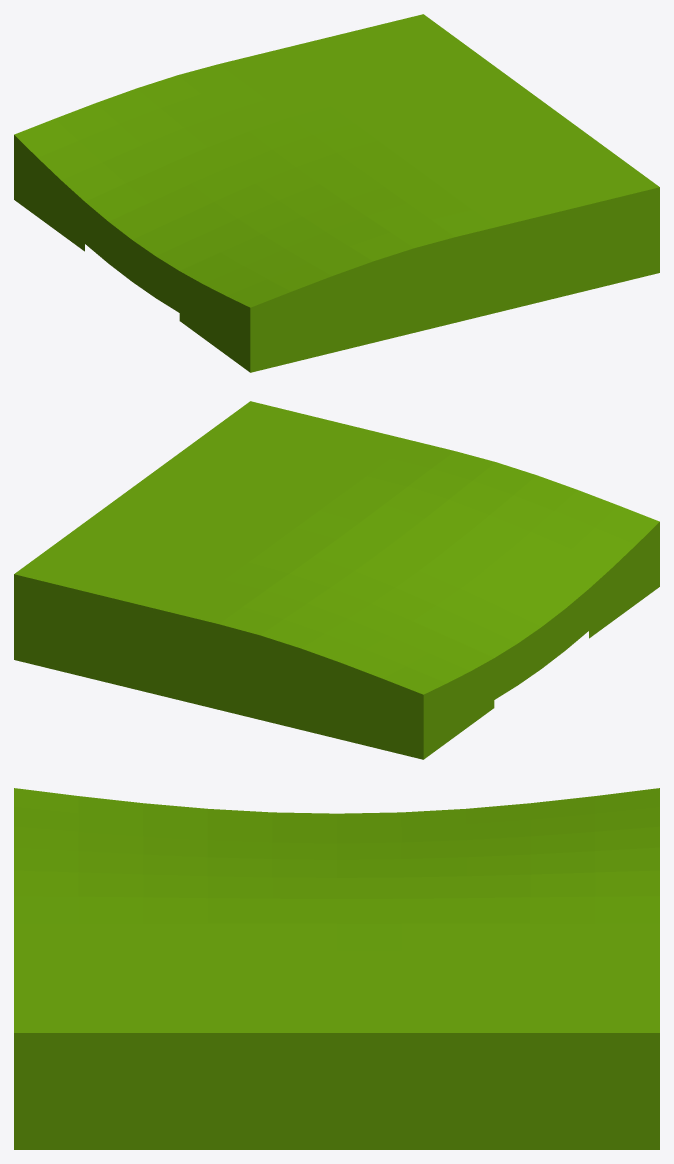
The model's file is TileGround_38.fbx.
3 renders of one model, top to bottom at view 1: azimuth 30°, elevation 25°; view 2: azimuth 150°, elevation 25°; view 3: azimuth 270°, elevation 25°, orthographic. The views are drawn at different scales.
Parts seen in each view (by area): view 1: TileGround_38; view 2: TileGround_38; view 3: TileGround_38.
Boxes of the visible parts, bbox=[...] form: TileGround_38: bbox=[14, 14, 659, 372]; TileGround_38: bbox=[14, 401, 659, 759]; TileGround_38: bbox=[14, 788, 659, 1149].
Bounding box in the file's own units: 500 × 100 × 500.
